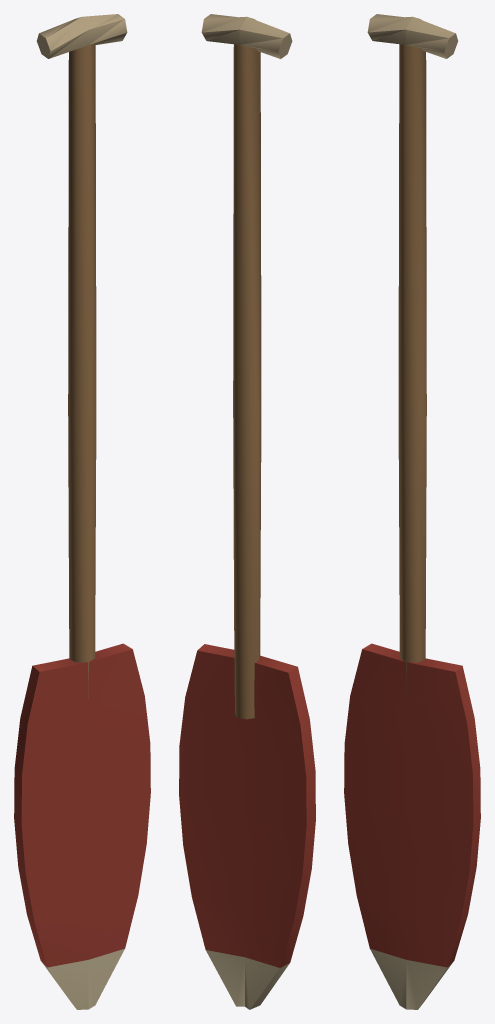
File: part_paddle.glb
3 renders of one model, left to right at view 1: azimuth 30°, elevation 25°; view 2: azimuth 150°, elevation 25°; view 3: azimuth 330°, elevation 25°, orthographic.
Parts seen in each view (by area): view 1: paddle; view 2: paddle; view 3: paddle.
Part boxes in pixels (x1,y1,x2,y2): paddle: (14,14,150,1009); paddle: (179,14,315,1009); paddle: (344,14,480,1009).
Bounding box in the file's own units: 0.1951 × 1.42 × 0.0381.
